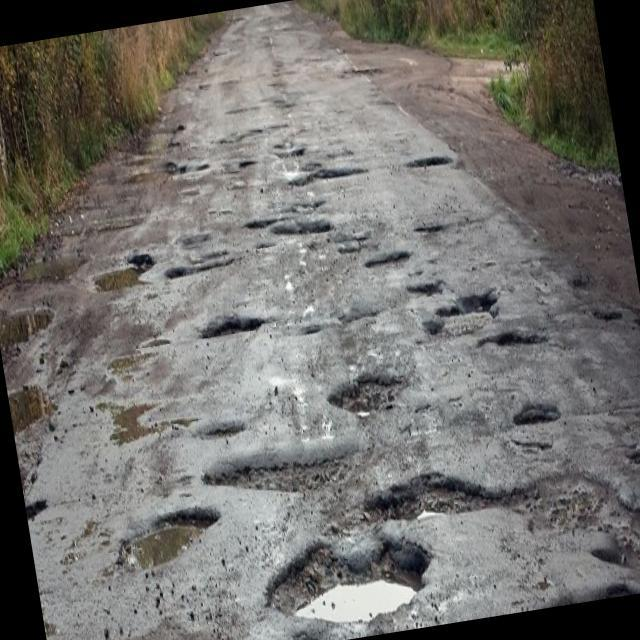Pothole: (365, 419, 640, 632), (262, 523, 438, 634), (118, 476, 204, 584), (97, 379, 186, 476), (188, 298, 288, 366), (418, 275, 508, 348), (324, 352, 409, 428), (8, 383, 82, 456), (197, 405, 273, 464), (476, 314, 546, 372), (311, 151, 392, 201), (81, 254, 158, 306), (264, 202, 340, 248), (392, 202, 473, 245), (162, 243, 236, 290), (0, 297, 65, 344), (590, 295, 640, 352), (404, 138, 465, 182), (505, 388, 567, 429), (140, 146, 206, 182), (364, 250, 418, 277), (225, 152, 269, 175), (568, 270, 605, 294), (259, 145, 305, 158)
